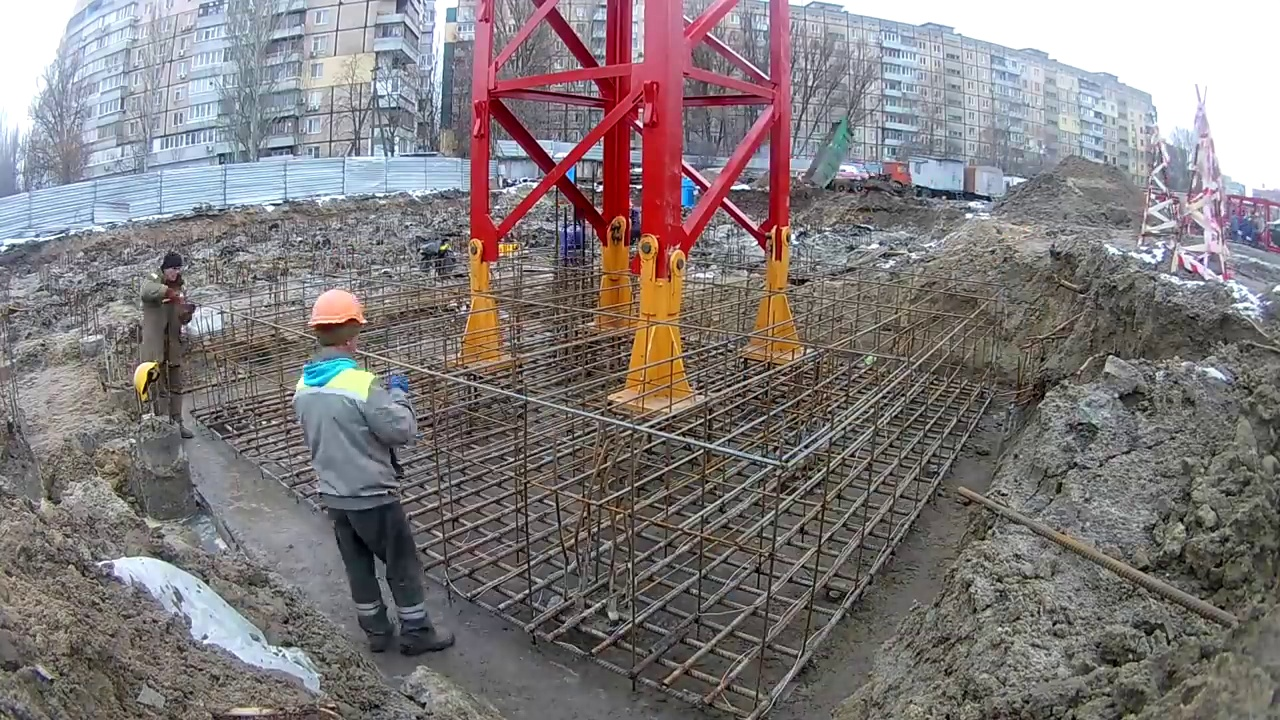helmet: (305, 290, 367, 329), (132, 361, 160, 403)
helmet-off: (159, 255, 183, 283)
helmet-on: (305, 289, 369, 357)
person: (290, 290, 456, 656), (139, 254, 194, 440)
